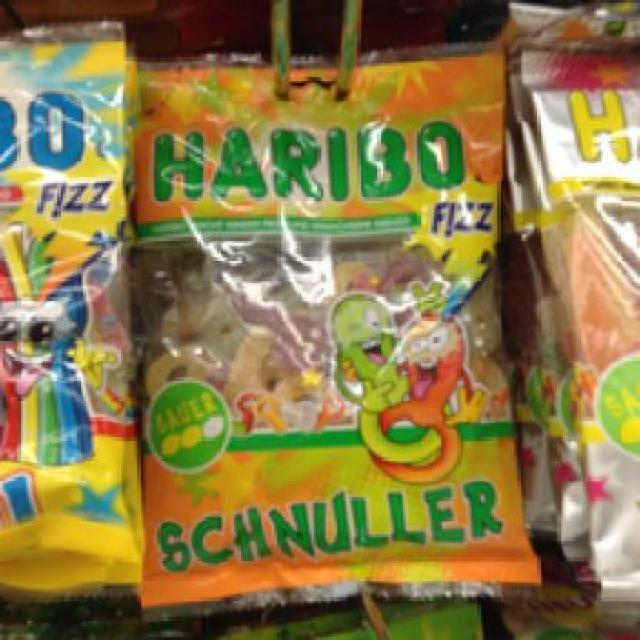Candy: (134, 42, 540, 595), (0, 7, 155, 581)
